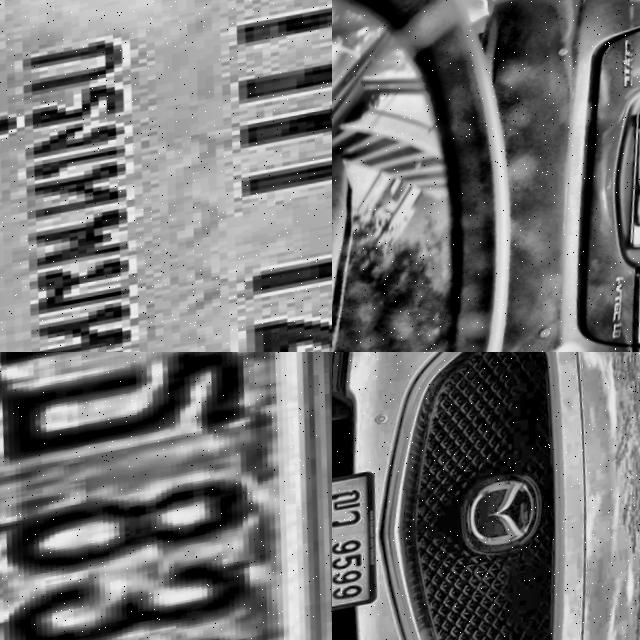license-plate: (0, 0, 332, 352), (0, 352, 332, 640), (332, 469, 394, 620), (617, 100, 640, 263)
